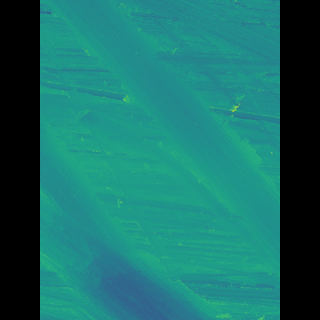Loch: (74, 0, 249, 278), (69, 114, 218, 320)
